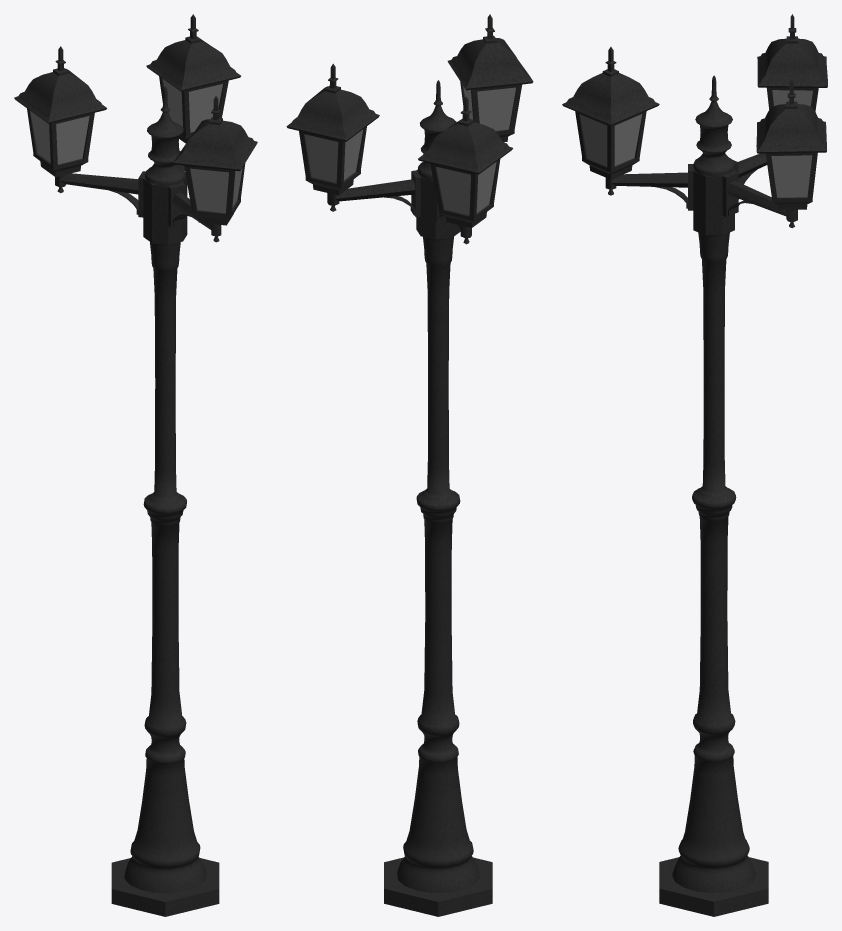
Rendered from TaskExam.fbx.
The picture shows the model from 3 angles, left to right: view 1: azimuth 30°, elevation 25°; view 2: azimuth 150°, elevation 25°; view 3: azimuth 270°, elevation 25°; orthographic projection.
Visible parts, largest first — view 1: Box002; view 2: Box002; view 3: Box002.
Part boxes in pixels (<box>): Box002: <box>14,14,257,916</box>; Box002: <box>286,14,533,916</box>; Box002: <box>562,14,827,916</box>.
Size of the model in its own units: 2411 by 9945 by 2841.
2 materials, 1 textured.
